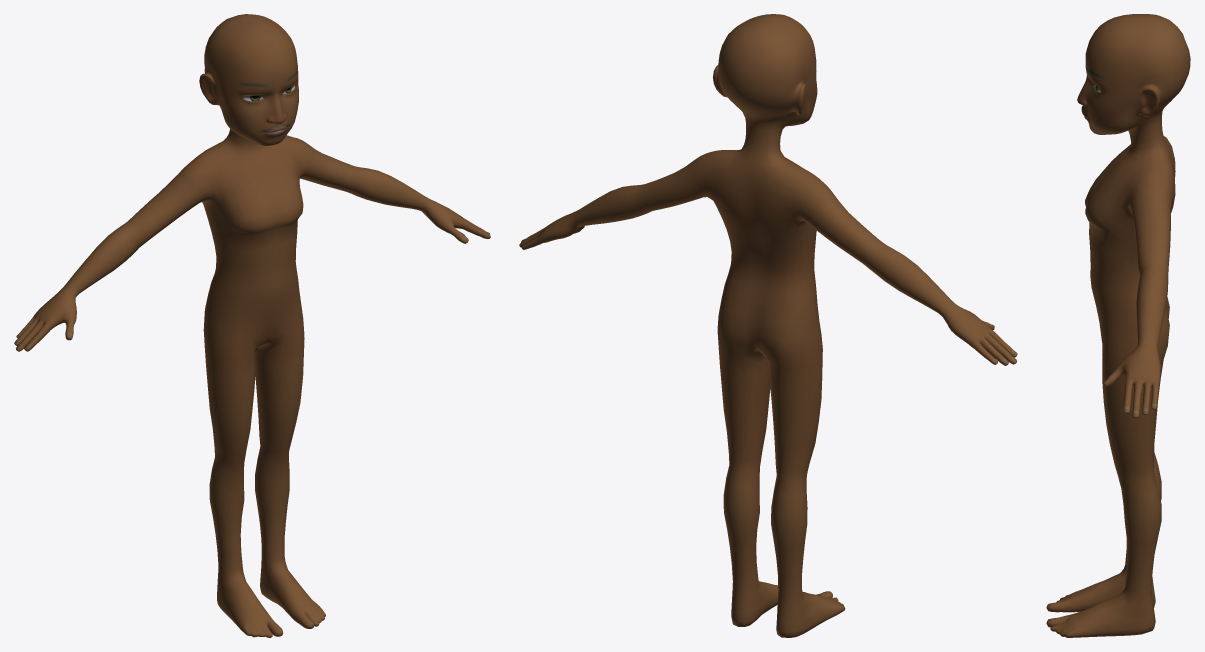
File: frame_0004.glb
3 renders of one model, left to right at view 1: azimuth 30°, elevation 25°; view 2: azimuth 150°, elevation 25°; view 3: azimuth 270°, elevation 25°, orthographic. The views are drawn at different scales.
Parts seen in each view (by area): view 1: frame_0004_head_geo; view 2: frame_0004_head_geo; view 3: frame_0004_head_geo.
Boxes of the visible parts, x1=… form: frame_0004_head_geo: x1=14, y1=14, x2=490, y2=637; frame_0004_head_geo: x1=519, y1=14, x2=1017, y2=637; frame_0004_head_geo: x1=1046, y1=14, x2=1190, y2=637.
Size of the model in its own units: 1.28 by 1.5 by 0.3253.
3 materials, 3 textured.
